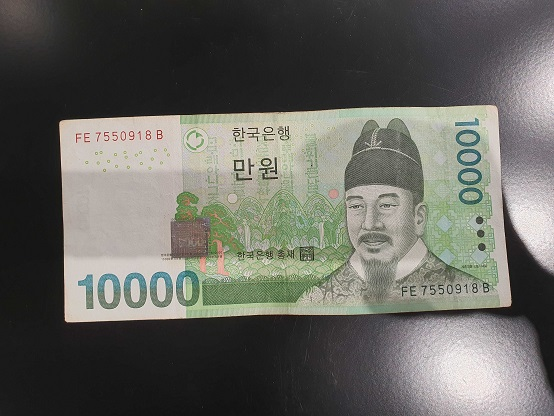10000won: (57, 103, 513, 322)
